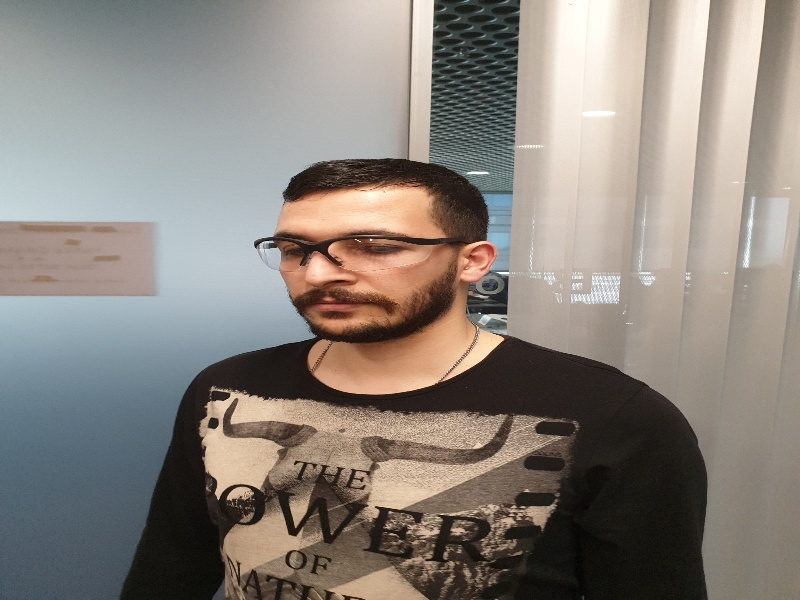Gozluk: (252, 234, 467, 272)
